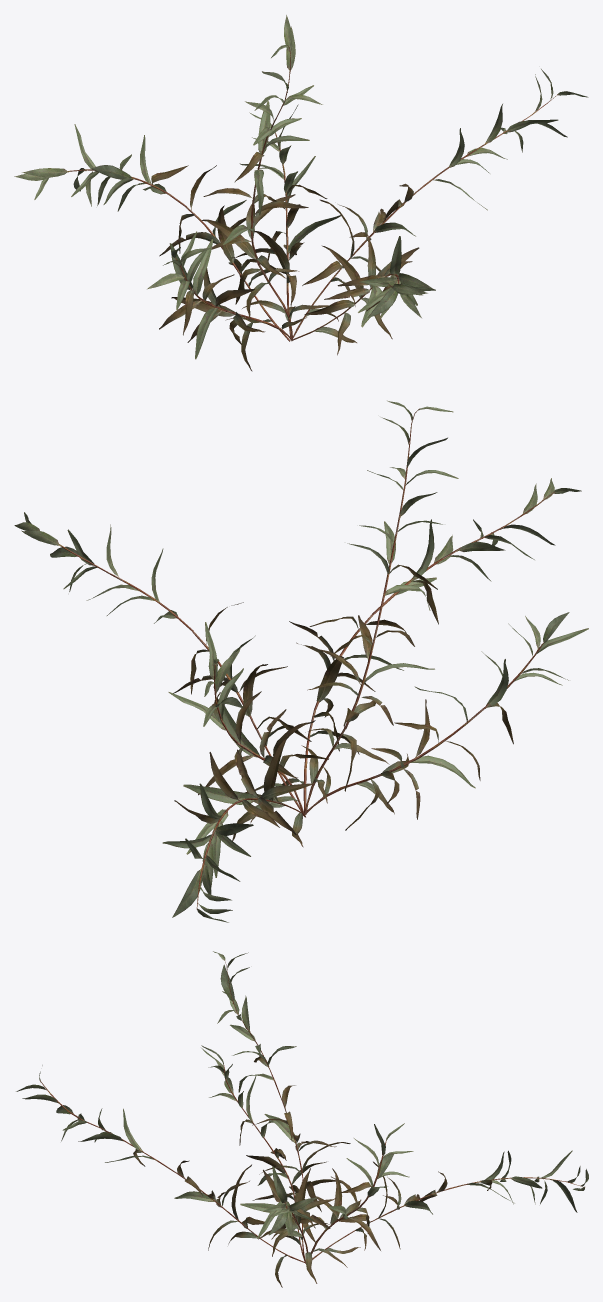
File: shrub_c.glb
The picture shows the model from 3 angles, top to bottom: view 1: azimuth 30°, elevation 25°; view 2: azimuth 150°, elevation 25°; view 3: azimuth 270°, elevation 25°; orthographic projection. The views are drawn at different scales.
Parts seen in each view (by area): view 1: shrub_c; view 2: shrub_c; view 3: shrub_c.
Boxes of the visible parts, bbox=[...] form: shrub_c: bbox=[14, 15, 588, 371]; shrub_c: bbox=[14, 400, 588, 922]; shrub_c: bbox=[16, 951, 588, 1287].
Bounding box in the file's own units: 1.77 × 1.31 × 2.29.
Materials: 1 (1 with a texture image).
